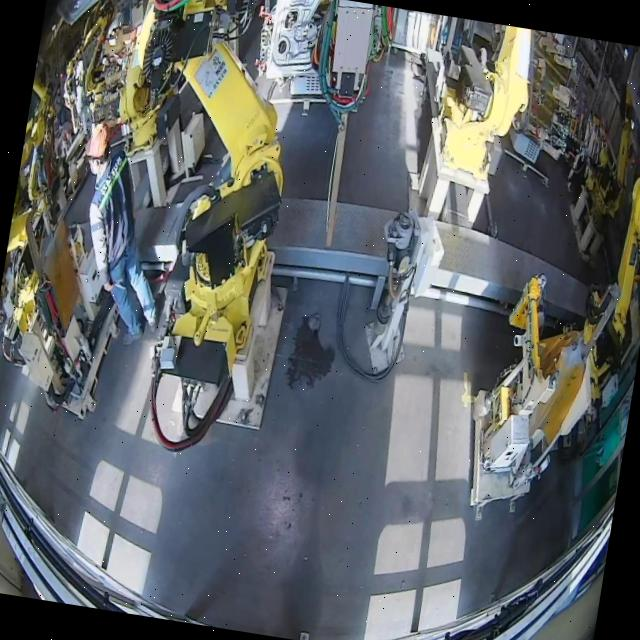Person: (56, 119, 188, 350)
